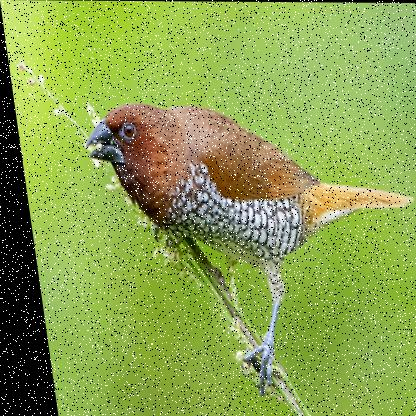Burung: (76, 103, 415, 398)
